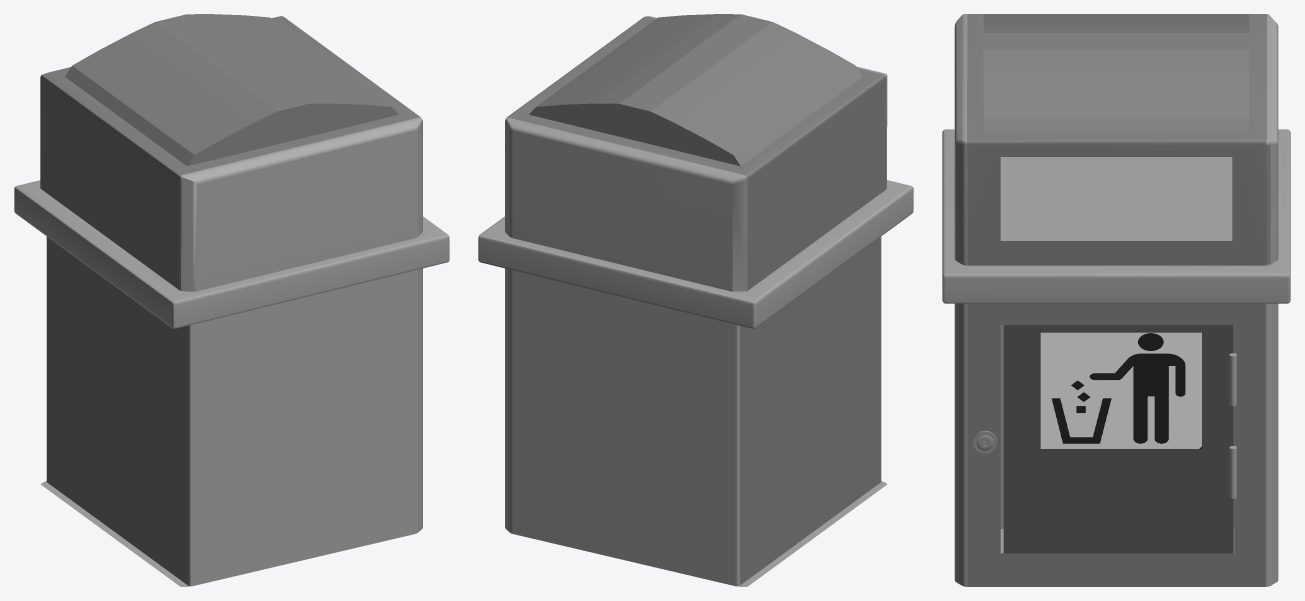
The model's file is 쓰레기통.fbx.
3 renders of one model, left to right at view 1: azimuth 30°, elevation 25°; view 2: azimuth 150°, elevation 25°; view 3: azimuth 270°, elevation 25°, orthographic. The views are drawn at different scales.
Visible parts, largest first — view 1: polySurface2; view 2: polySurface2; view 3: polySurface2, pCube2, polySurface3.
Part boxes in pixels (x1,y1,x2,y2): polySurface2: (14, 14, 449, 586); polySurface2: (478, 14, 913, 586); polySurface2: (942, 14, 1290, 586); pCube2: (1003, 325, 1233, 553); polySurface3: (973, 430, 997, 453).
Bounding box in the file's own units: 8.98 × 13.97 × 8.98.
Materials: 5 (1 with a texture image).
